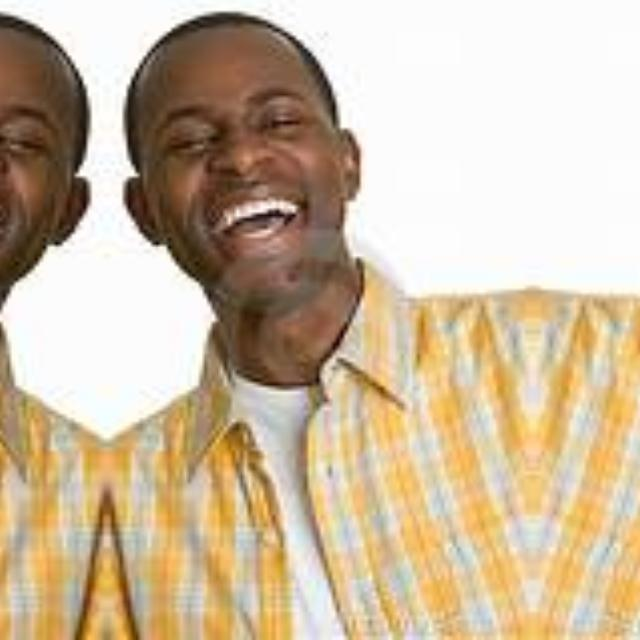person: (108, 6, 532, 586), (532, 6, 640, 586), (0, 6, 104, 586)
